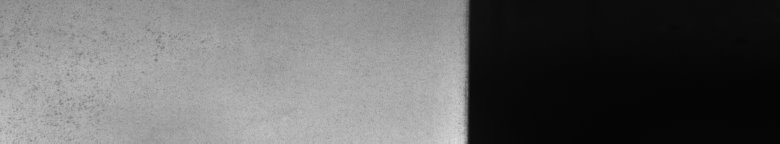ib: (33, 31, 164, 128)
